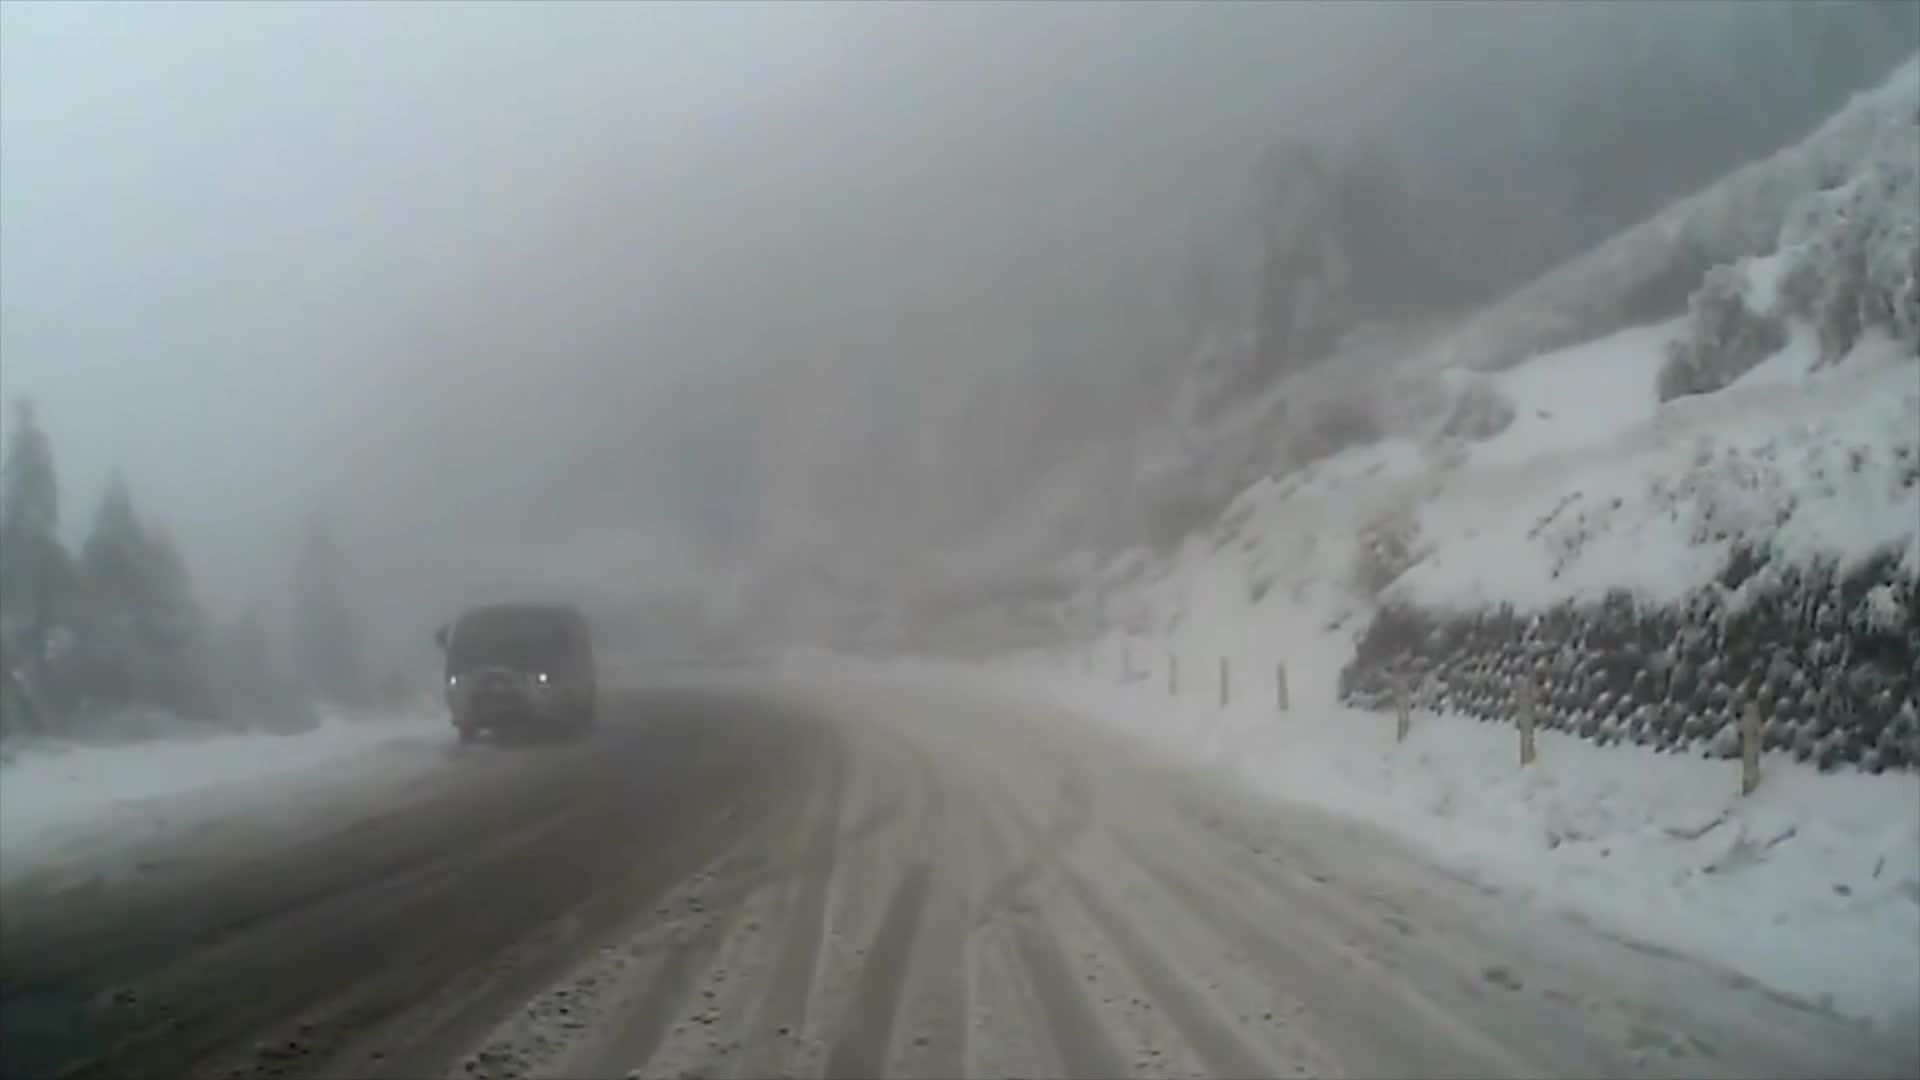vehicle: (431, 600, 596, 742)
